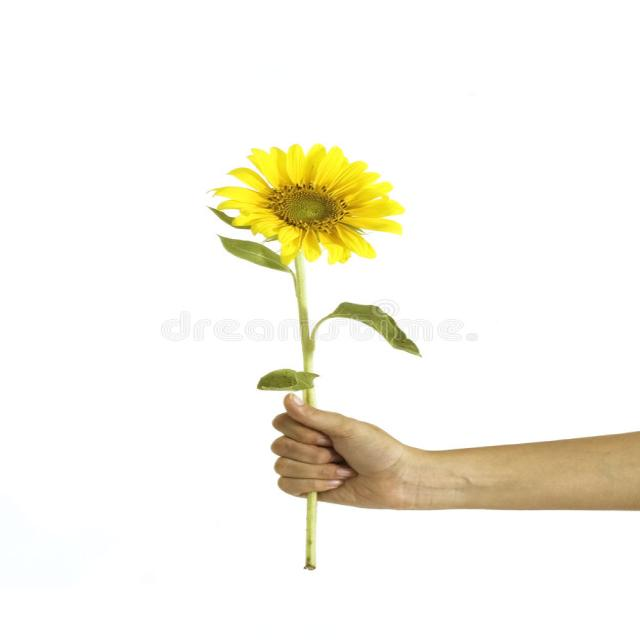sunflower: (195, 124, 404, 269)
